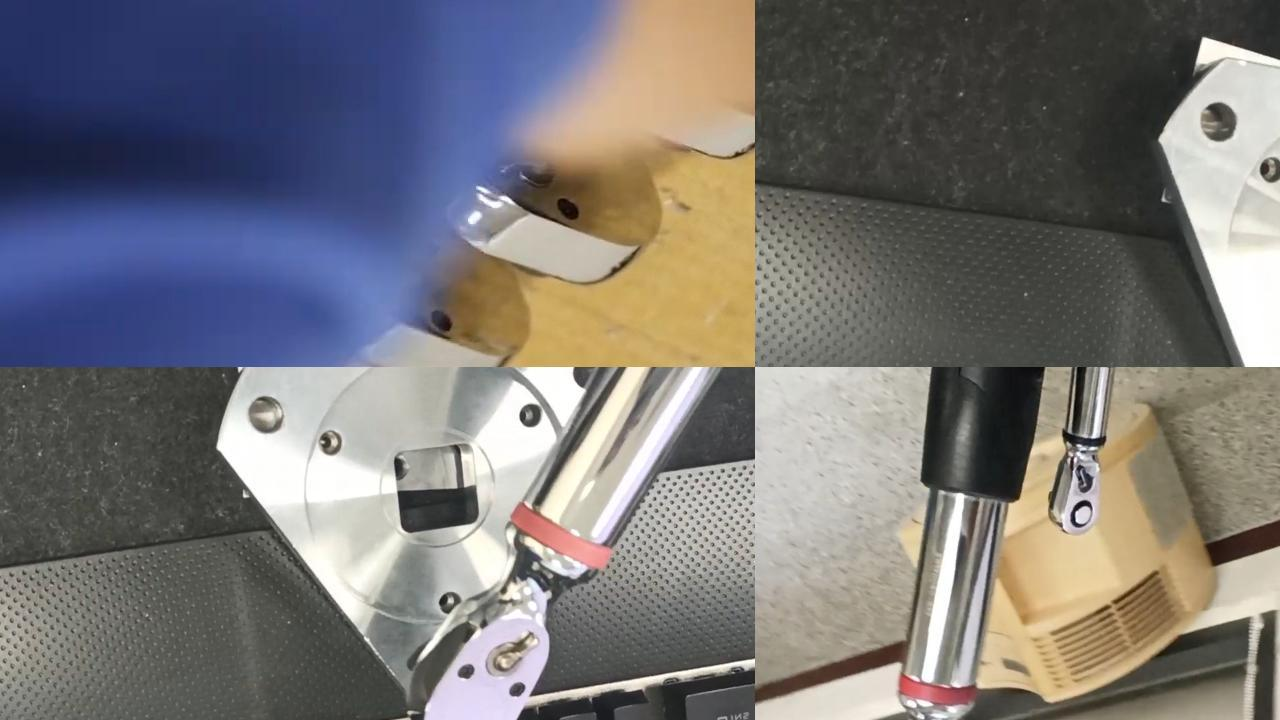Tool: (411, 544, 575, 720), (1046, 449, 1114, 535)
